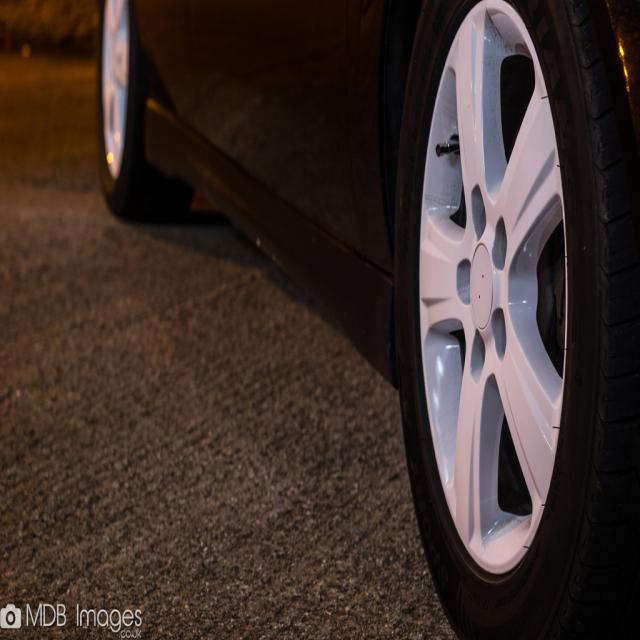car: (34, 6, 621, 638)
